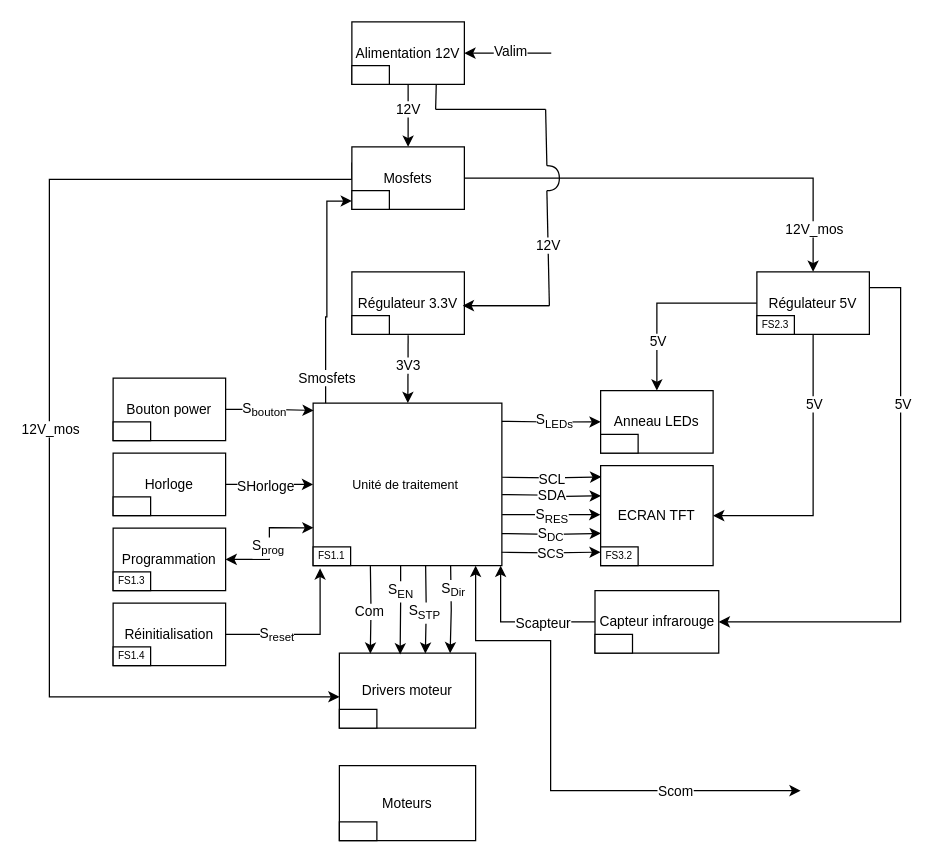
Image size: 933x863. Some labels were removed from this diagram. The shapes that lost their labels are listed below. From the top down, each one's centre as x and y in pixels, then its label:
[370,74]: FS2.1
[370,199]: FS2.2
[370,324]: FS2.4
[131,431]: FS2.5
[618,443]: FS3.1
[131,506]: FS1.2
[613,643]: FS4.1
[357,718]: FS5.1
[357,831]: FS5.2
